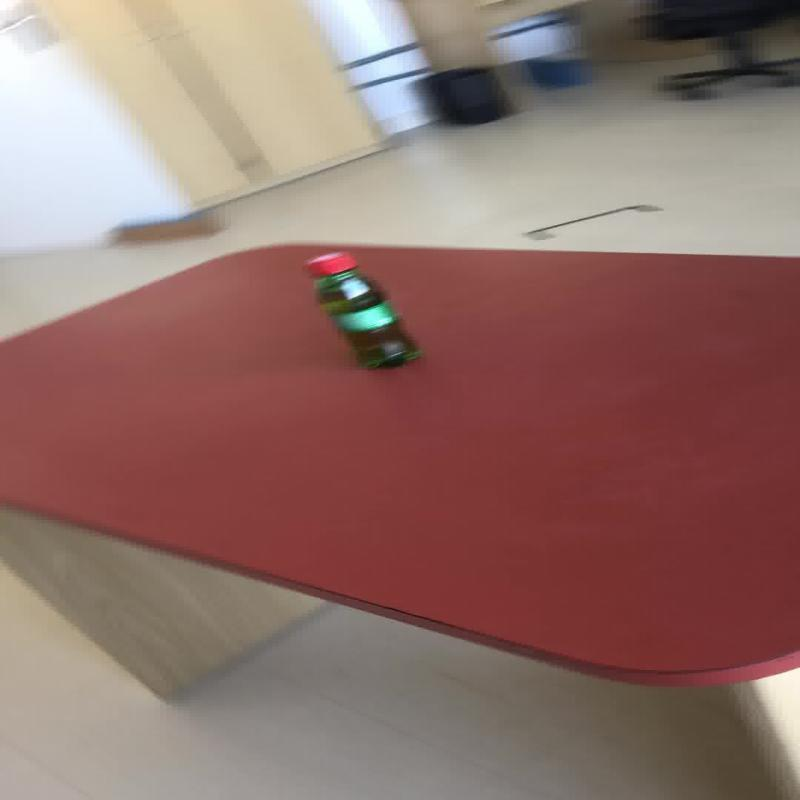guarana: (301, 251, 422, 368)
